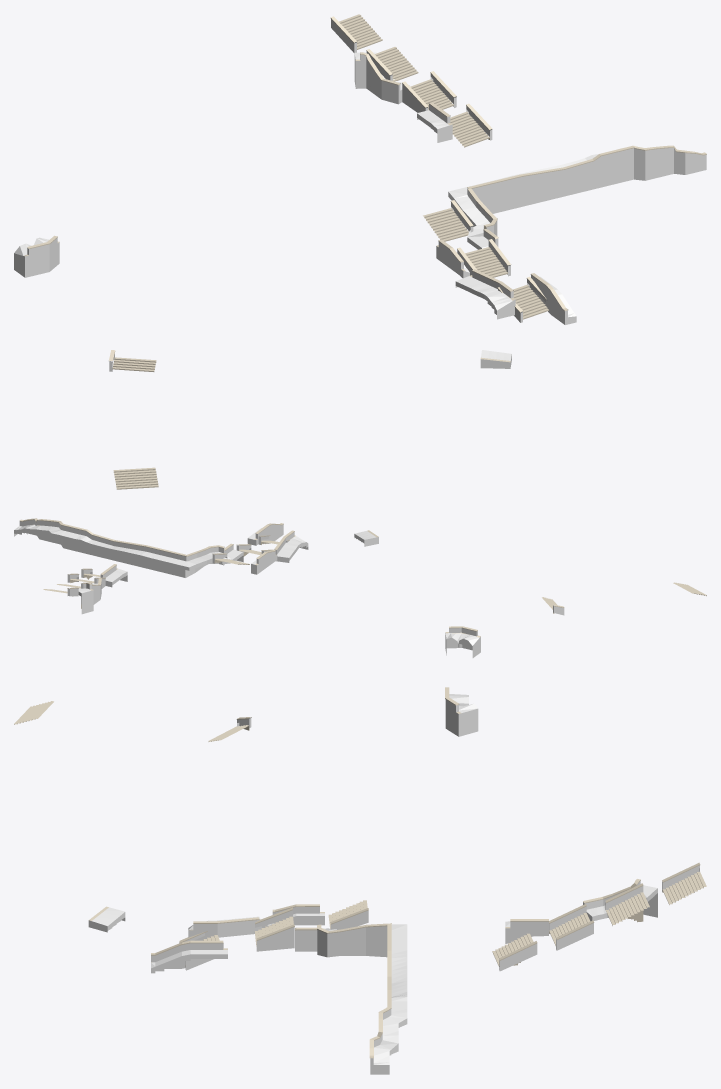
The model's file is SM_BM_BC_Works_1_3.glb.
3 renders of one model, top to bottom at view 1: azimuth 30°, elevation 25°; view 2: azimuth 150°, elevation 25°; view 3: azimuth 270°, elevation 25°, orthographic. The views are drawn at different scales.
Visible parts, largest first — view 1: SM_BM_BC_Works_1_3; view 2: SM_BM_BC_Works_1_3; view 3: SM_BM_BC_Works_1_3.
Part boxes in pixels (box(x1,y1,x2,y2)): SM_BM_BC_Works_1_3: box(14, 14, 706, 489); SM_BM_BC_Works_1_3: box(14, 518, 706, 657); SM_BM_BC_Works_1_3: box(14, 687, 706, 1074).
Bounding box in the file's own units: 104 × 15.13 × 78.72.
